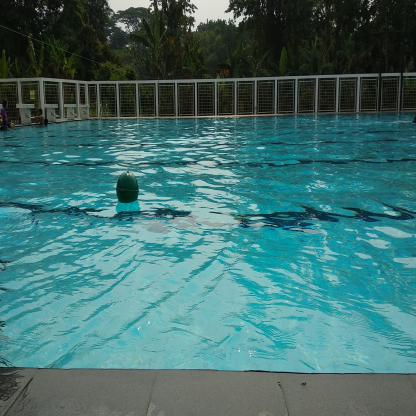green_buoy: (114, 168, 140, 209)
